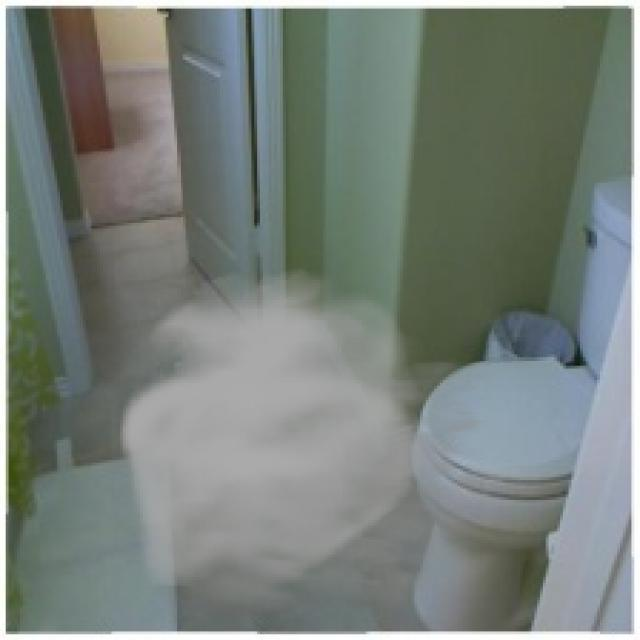Smoke: (111, 268, 532, 634)
